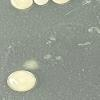white: (3, 67, 40, 95), (5, 0, 34, 15), (31, 0, 51, 8), (50, 0, 72, 7)
